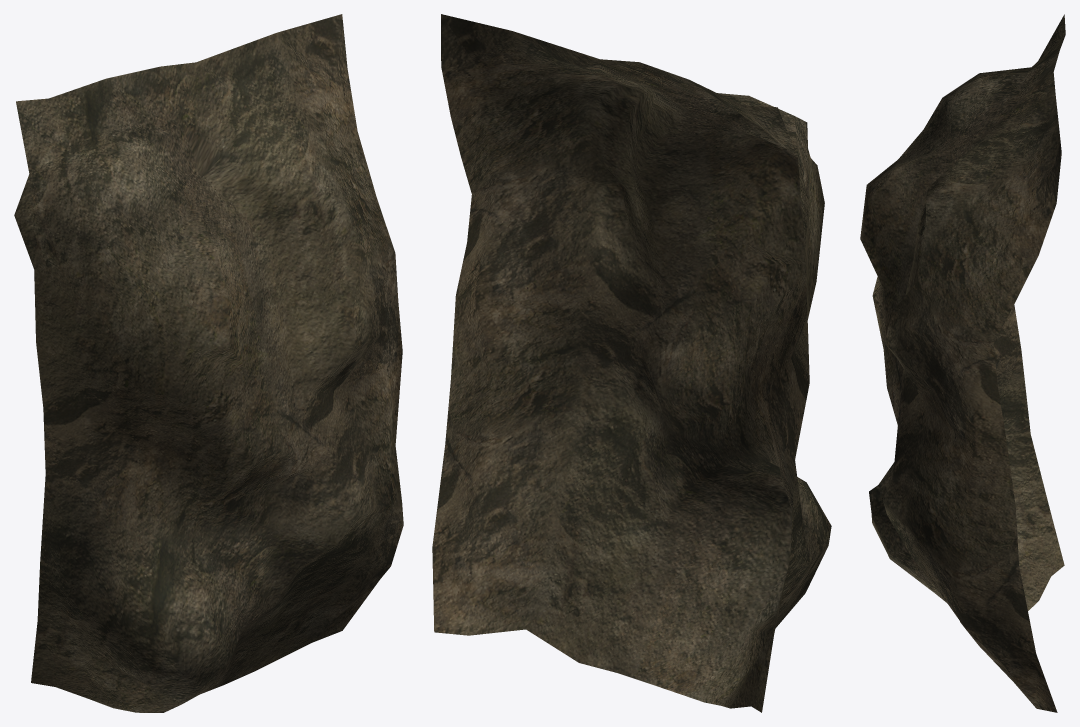
File: LCRG_RockClif_02.fbx
The picture shows the model from 3 angles, left to right: view 1: azimuth 30°, elevation 25°; view 2: azimuth 150°, elevation 25°; view 3: azimuth 270°, elevation 25°; orthographic projection. The views are drawn at different scales.
Visible parts, largest first — view 1: LCRG_RockClif_02; view 2: LCRG_RockClif_02; view 3: LCRG_RockClif_02.
Boxes of the visible parts, x1,y1,x2,y2 form: LCRG_RockClif_02: (14,14,403,712); LCRG_RockClif_02: (432,14,831,712); LCRG_RockClif_02: (860,14,1065,712).
Bounding box in the file's own units: 4.93 × 8.08 × 2.6.
